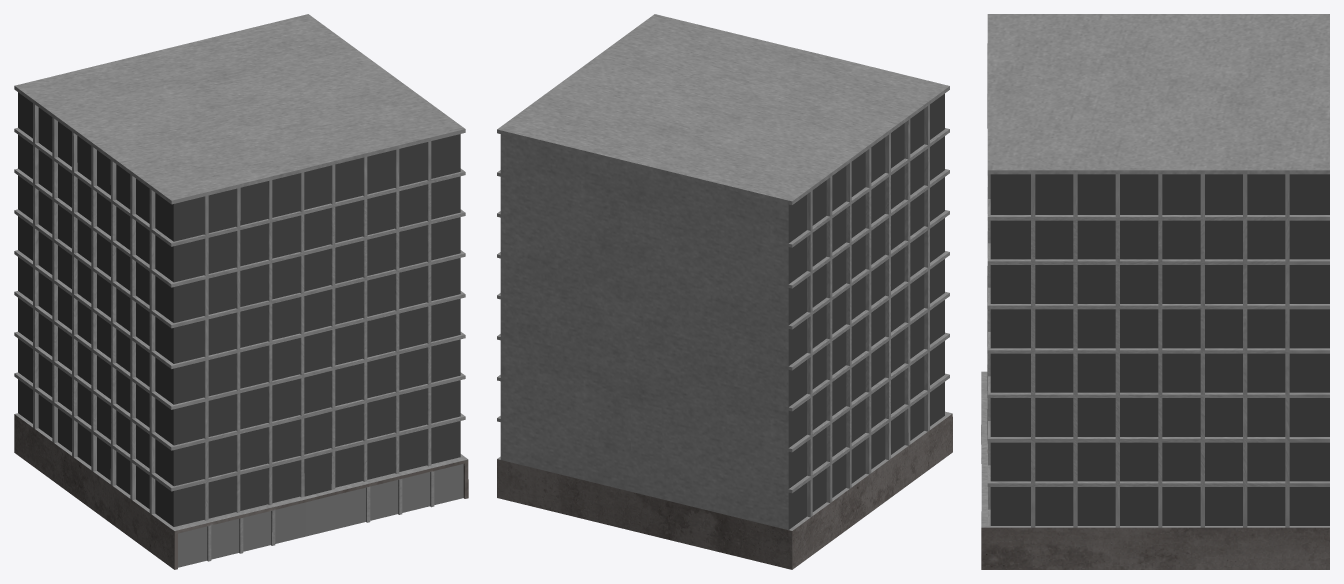
The model's file is Building2.fbx.
3 views of the same model, side by side, from view 1: azimuth 30°, elevation 25°; view 2: azimuth 150°, elevation 25°; view 3: azimuth 270°, elevation 25° (orthographic). The views are drawn at different scales.
Parts seen in each view (by area): view 1: rods2, entrance2, glass234, glass100, glass64, glass84, glass90, glass70, glass74, glass80, glass94, glass101 (+77 smaller); view 2: rods2, entrance2, glass103, glass104, glass105, glass106, glass107, glass108, glass109, glass110; view 3: rods2, entrance2, glass167, glass175, glass169, glass174, glass178, glass179, glass170, glass173, glass176, glass181 (+54 smaller).
Boxes of the visible parts, left/top/right/bottom form: rods2: left=14, top=14, right=467, bottom=530; entrance2: left=14, top=414, right=468, bottom=569; glass234: left=275, top=487, right=365, bottom=543; glass100: left=173, top=196, right=204, bottom=241; glass64: left=173, top=239, right=204, bottom=282; glass84: left=173, top=320, right=204, bottom=363; glass90: left=173, top=361, right=204, bottom=404; glass70: left=173, top=280, right=204, bottom=322; glass74: left=173, top=402, right=204, bottom=445; glass80: left=173, top=443, right=204, bottom=486; glass94: left=173, top=483, right=204, bottom=526; glass101: left=431, top=134, right=460, bottom=178; rods2: left=497, top=14, right=952, bottom=530; entrance2: left=497, top=414, right=952, bottom=569; glass103: left=788, top=194, right=806, bottom=242; glass104: left=788, top=483, right=806, bottom=529; glass105: left=788, top=360, right=806, bottom=406; glass106: left=788, top=319, right=806, bottom=365; glass107: left=788, top=442, right=806, bottom=488; glass108: left=788, top=401, right=806, bottom=447; glass109: left=788, top=278, right=806, bottom=324; glass110: left=788, top=237, right=806, bottom=283; rods2: left=981, top=14, right=1329, bottom=527; entrance2: left=981, top=449, right=1329, bottom=569; glass167: left=1289, top=174, right=1329, bottom=214; glass175: left=990, top=174, right=1030, bottom=214; glass169: left=1289, top=309, right=1329, bottom=348; glass174: left=1289, top=353, right=1329, bottom=392; glass178: left=990, top=309, right=1030, bottom=348; glass179: left=990, top=353, right=1030, bottom=392; glass170: left=1289, top=442, right=1329, bottom=481; glass173: left=1289, top=220, right=1329, bottom=259; glass176: left=990, top=220, right=1030, bottom=259; glass181: left=990, top=442, right=1030, bottom=481.
Bounding box in the file's own units: 33.59 × 40.06 × 31.69.
Materials: 4 (4 with a texture image).
